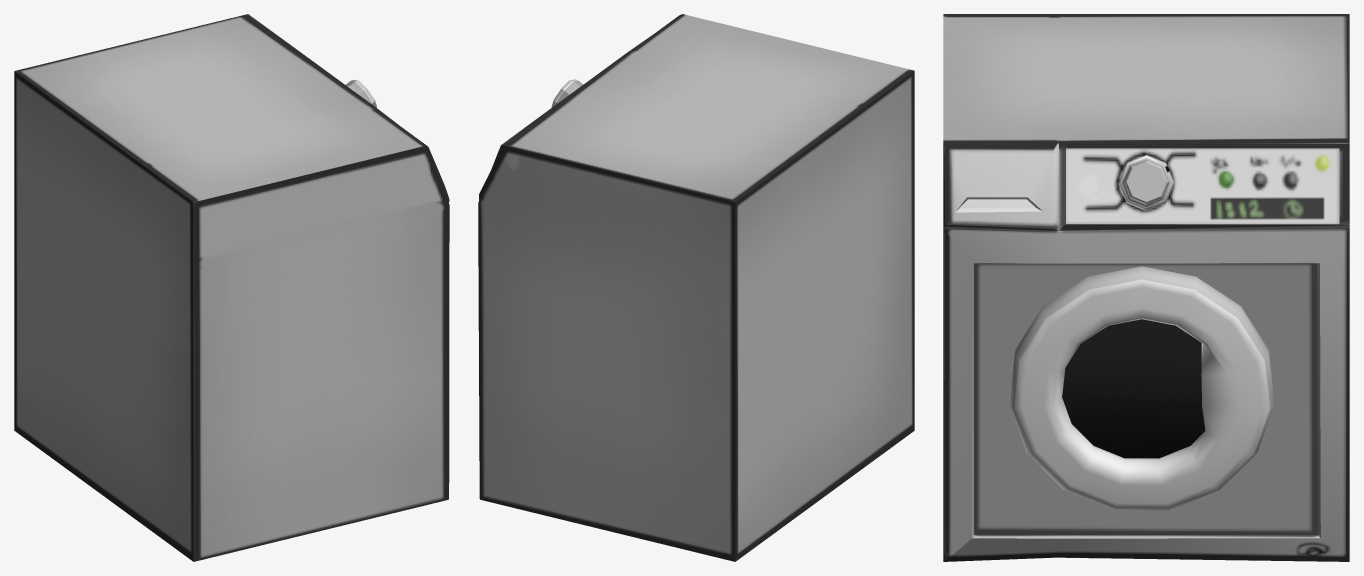
The model's file is Washing Machine.fbx.
The picture shows the model from 3 angles, left to right: view 1: azimuth 30°, elevation 25°; view 2: azimuth 150°, elevation 25°; view 3: azimuth 270°, elevation 25°; orthographic projection. The views are drawn at different scales.
Parts seen in each view (by area): view 1: WashingMachine1; view 2: WashingMachine1; view 3: WashingMachine1.
Boxes of the visible parts, x1,y1,x2,y2 form: WashingMachine1: (14, 14, 449, 561); WashingMachine1: (478, 14, 914, 561); WashingMachine1: (943, 14, 1349, 561).
Bounding box in the file's own units: 2.63 × 3.21 × 2.9.
